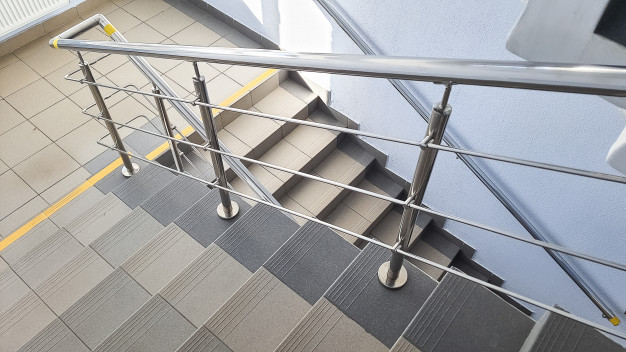escada: (5, 198, 400, 352), (178, 78, 421, 233)
